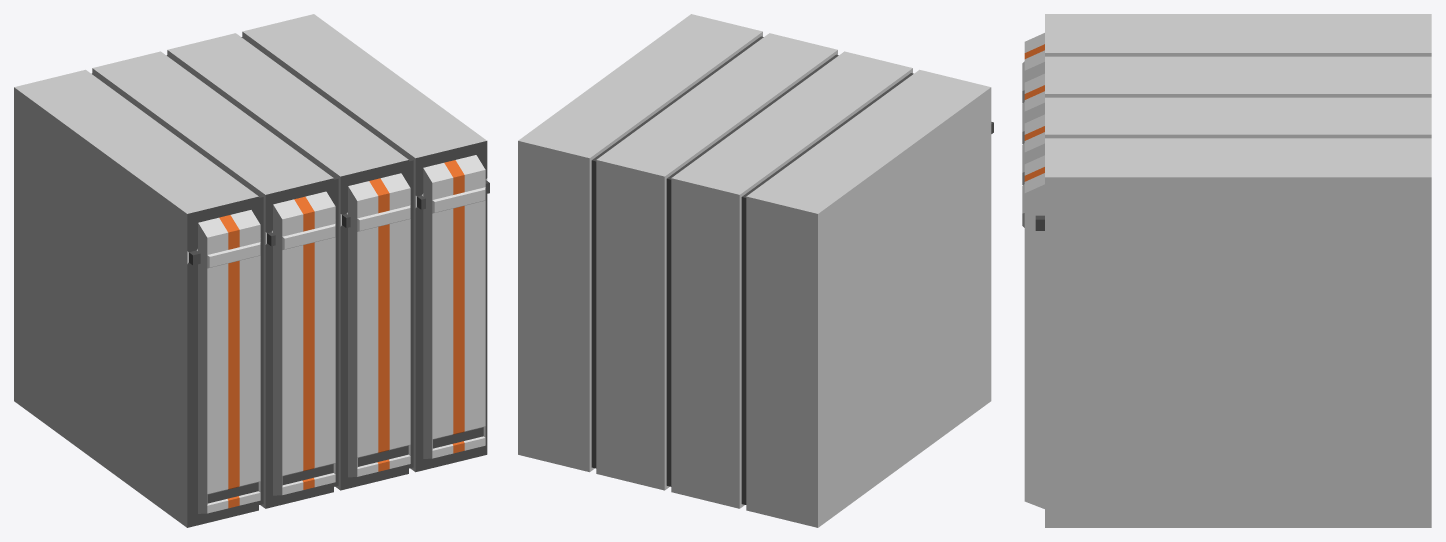
The model's file is Server.fbx.
The picture shows the model from 3 angles, left to right: view 1: azimuth 30°, elevation 25°; view 2: azimuth 150°, elevation 25°; view 3: azimuth 270°, elevation 25°; orthographic projection. The views are drawn at different scales.
Visible parts, largest first — view 1: Cube.020; view 2: Cube.020; view 3: Cube.020.
Boxes of the visible parts, bbox=[...] form: Cube.020: bbox=[14, 14, 489, 527]; Cube.020: bbox=[518, 14, 993, 527]; Cube.020: bbox=[1022, 14, 1431, 527].
Bounding box in the file's own units: 89.69 × 89.69 × 94.98.
